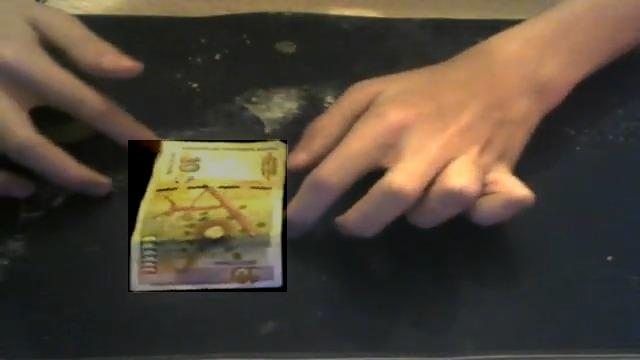10leva: (128, 140, 287, 292)
